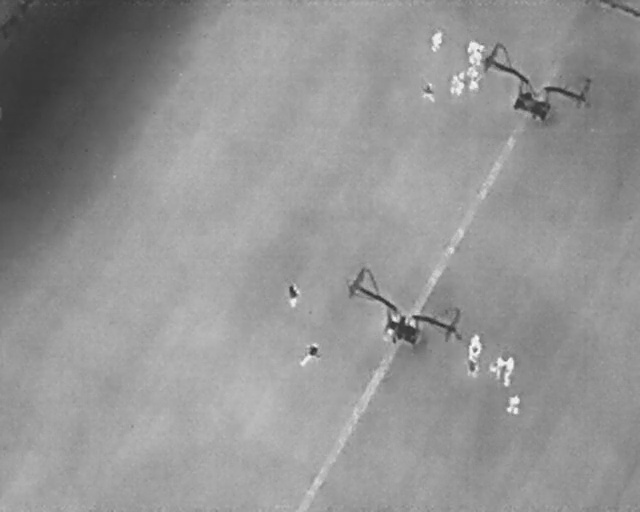Person: (295, 339, 326, 373), (498, 353, 517, 389), (489, 354, 506, 383), (467, 39, 485, 66), (426, 29, 445, 54), (286, 280, 301, 309), (466, 331, 482, 356), (465, 356, 480, 377), (467, 66, 480, 90), (507, 395, 520, 416), (423, 82, 435, 103), (457, 70, 465, 96), (450, 72, 458, 97)
